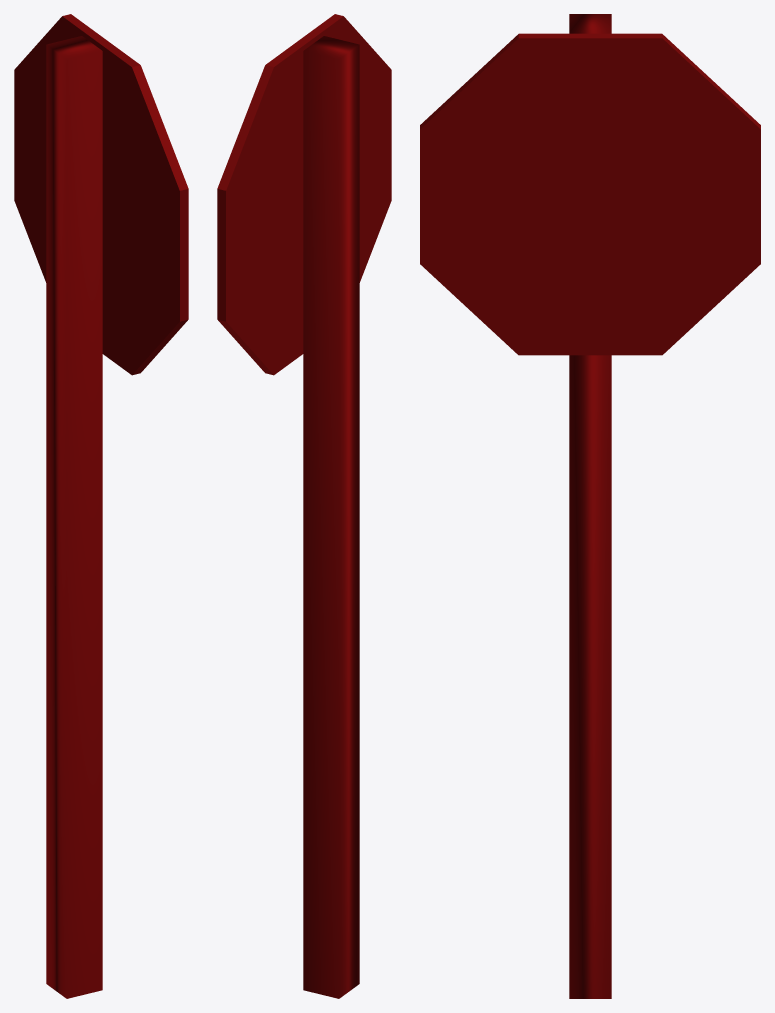
File: StopPost.DAE
The picture shows the model from 3 angles, left to right: view 1: azimuth 30°, elevation 25°; view 2: azimuth 150°, elevation 25°; view 3: azimuth 270°, elevation 25°; orthographic projection. The views are drawn at different scales.
Visible parts, largest first — view 1: StopPost; view 2: StopPost; view 3: StopPost.
Part boxes in pixels (<box>): StopPost: <box>14,14,188,998</box>; StopPost: <box>217,14,391,998</box>; StopPost: <box>420,14,760,998</box>.
Size of the model in its own units: 0.1631 by 2.97 by 0.9481.
